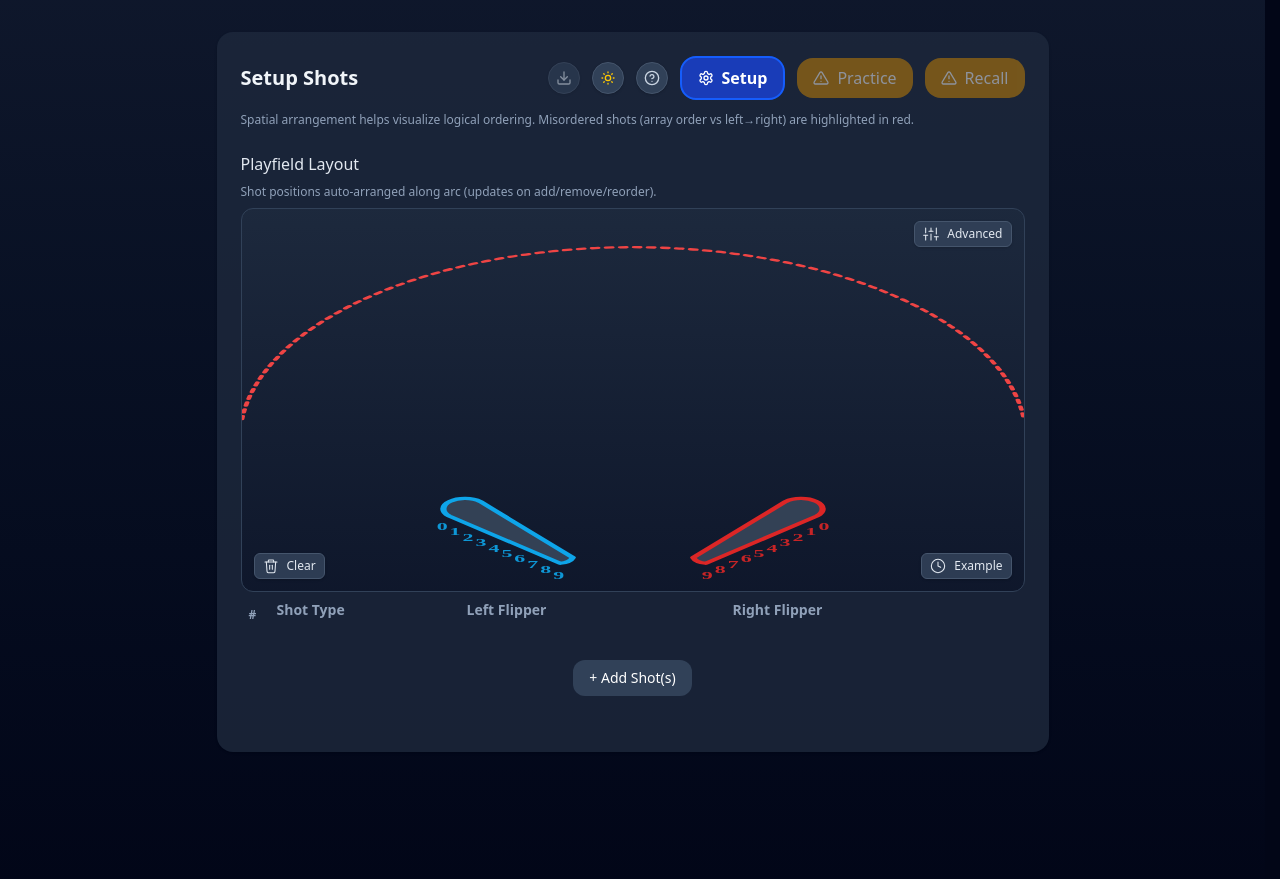
Test: App - Recall Mode Tests › should show recall mode UI elements
Expected: the heading "Setup Shots" is shown, [240,64,358,92]
Click the button with aria-label "load example shots" at x=966, y=566, box [921,553,1012,579]
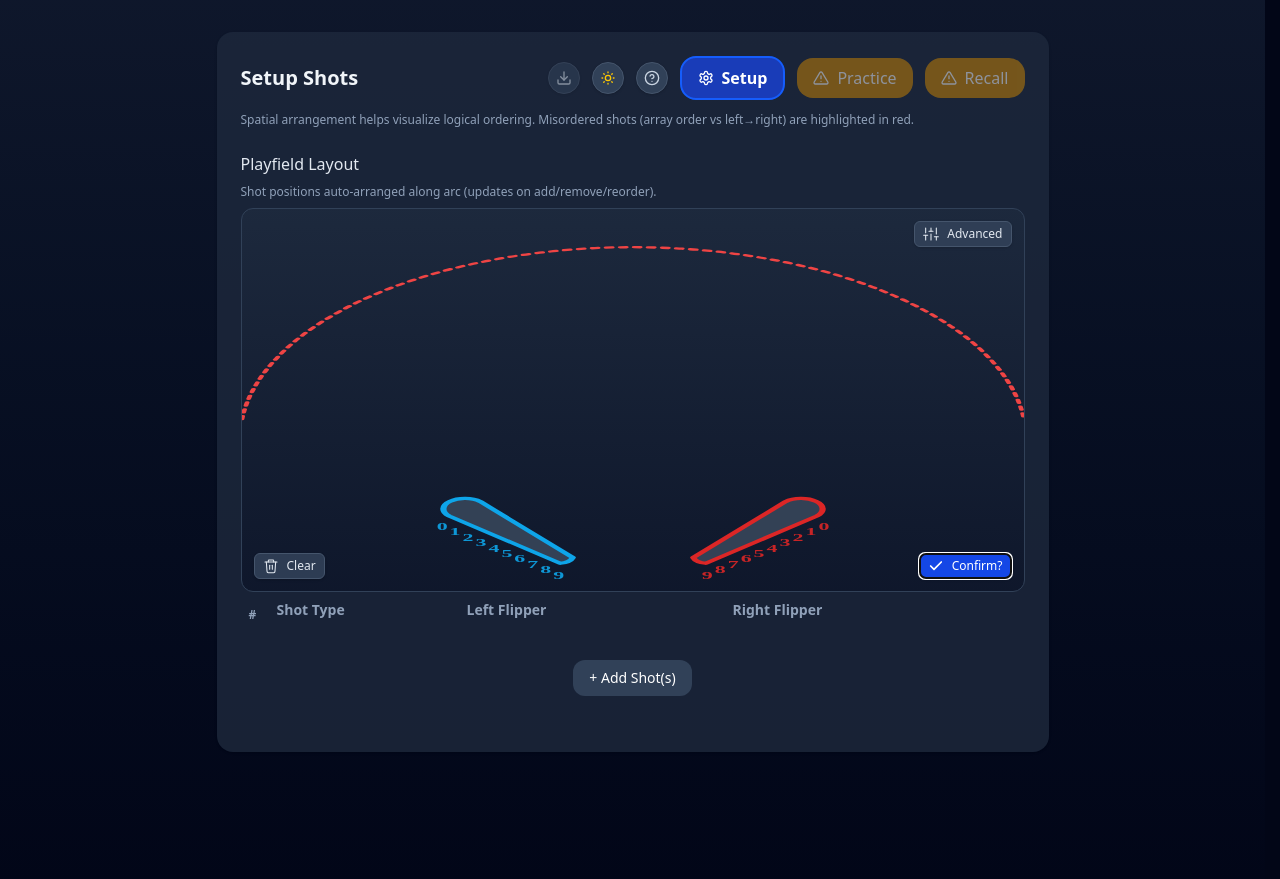
Click the button with aria-label "confirm load example shots" at x=965, y=566, box [919,553,1012,579]
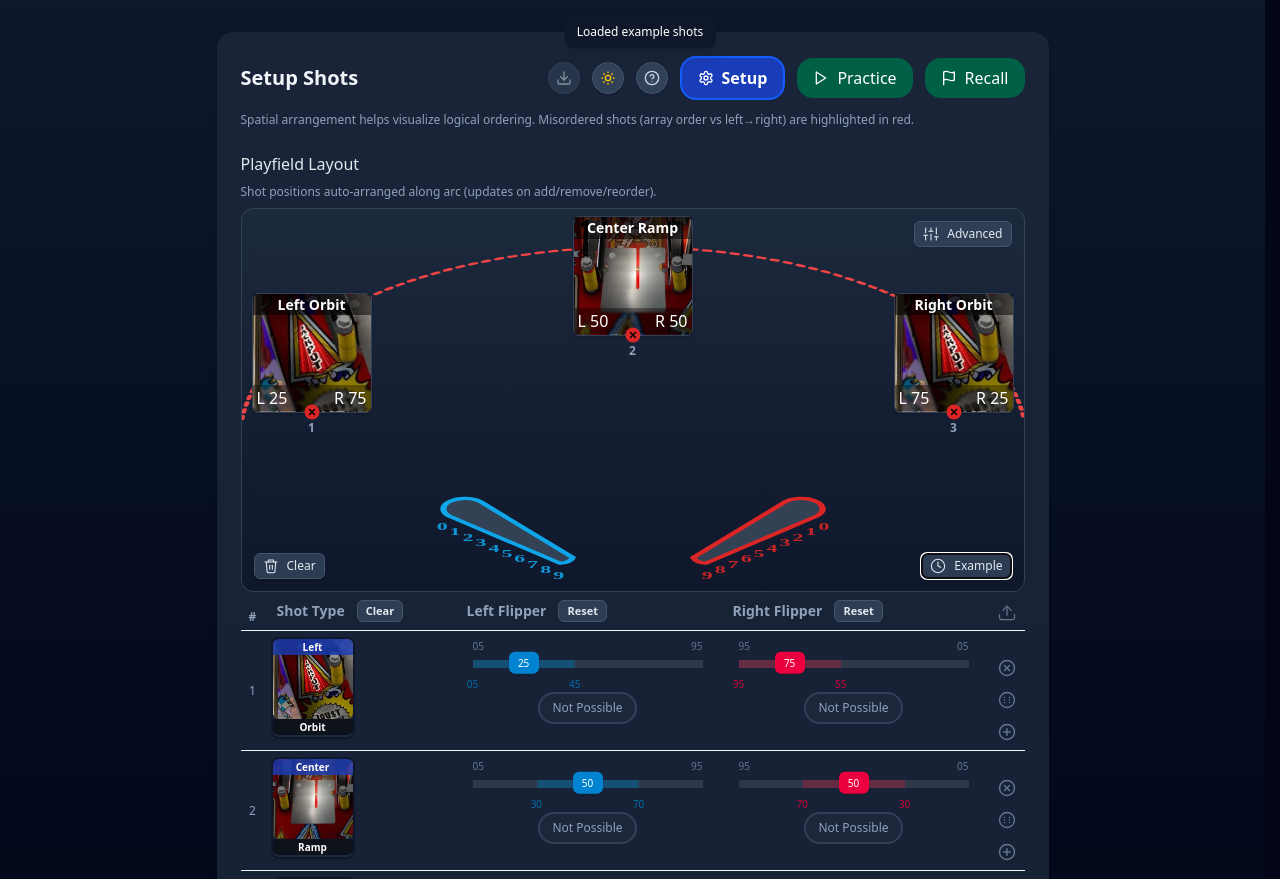
Click the button "Recall" at x=975, y=78, box [925,58,1024,98]
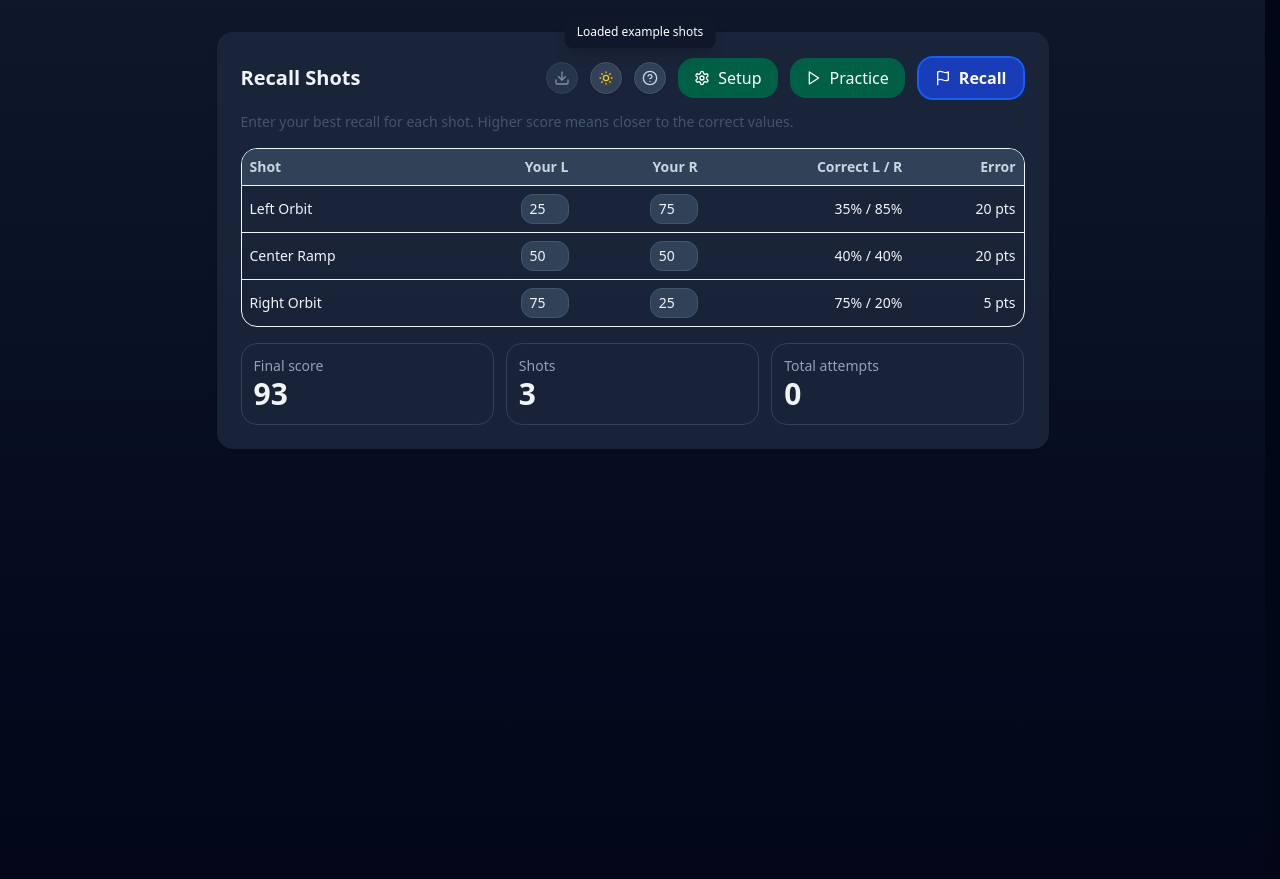
Result: the heading "Setup Shots" is gone
Result: the text "Enter your best recall" is shown at [240,112,793,131]
Result: the text "Final score" is shown at [254,356,323,375]
